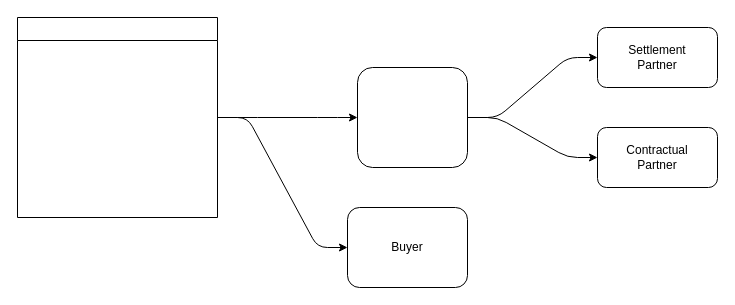
The diagram is 735 pixels wide and 305 high, and some of its shapes have lost their labels. Here are the shapes that lost their labels. From the top down, the centre of each, then its label:
At pixel 117 117: "Factoring Case".
At pixel 412 117: "Merchant".
